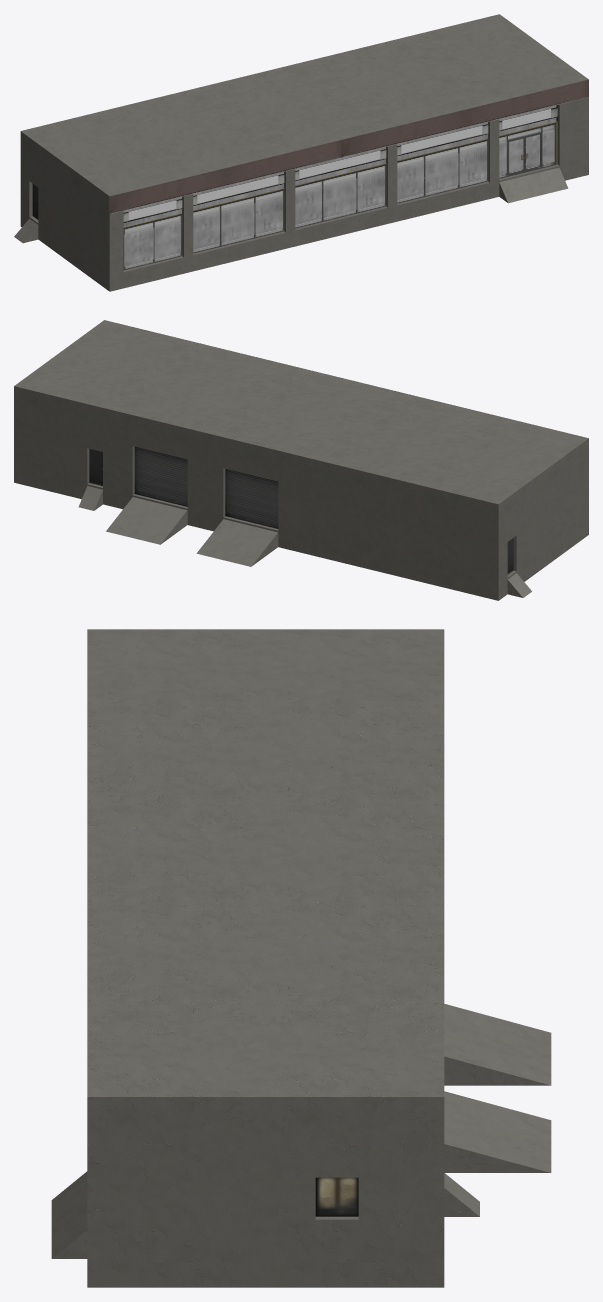
The model's file is mid_house_1_2.fbx.
3 views of the same model, one above another, from view 1: azimuth 30°, elevation 25°; view 2: azimuth 150°, elevation 25°; view 3: azimuth 270°, elevation 25° (orthographic). The views are drawn at different scales.
Parts seen in each view (by area): view 1: mid_house_1_2; view 2: mid_house_1_2; view 3: mid_house_1_2.
Boxes of the visible parts, left/top/right/bottom form: mid_house_1_2: left=14, top=14, right=588, bottom=291; mid_house_1_2: left=14, top=320, right=588, bottom=600; mid_house_1_2: left=51, top=629, right=551, bottom=1287.
Size of the model in its own units: 3200 by 590 by 1400.
